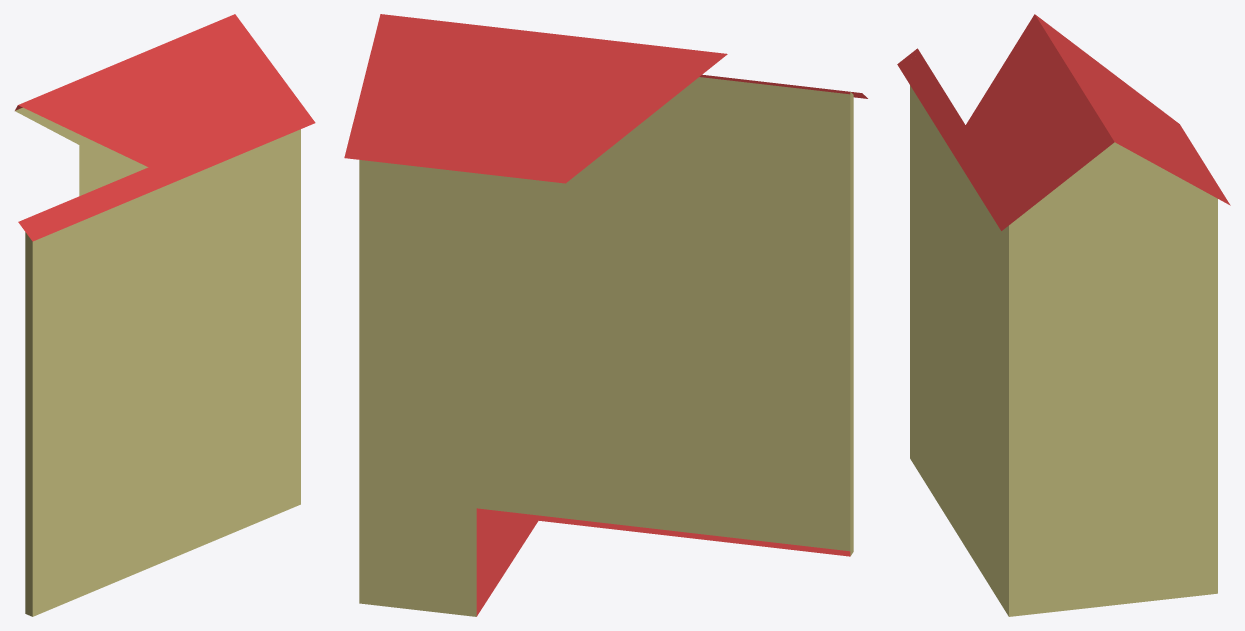
3 renders of one model, left to right at view 1: azimuth 30°, elevation 25°; view 2: azimuth 150°, elevation 25°; view 3: azimuth 270°, elevation 25°, orthographic. The views are drawn at different scales.
Size of the model in its own units: 9.44 by 7.86 by 12.16.
